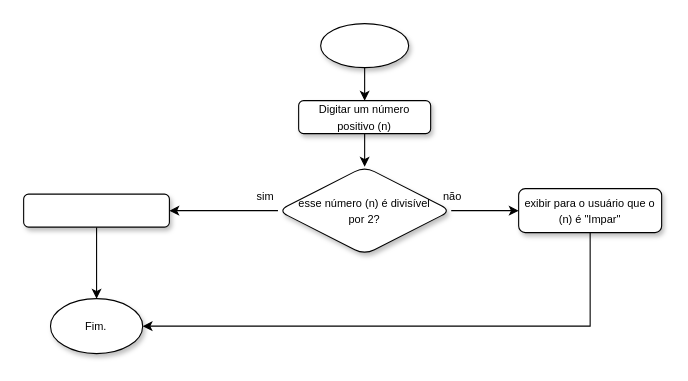
Some shapes in this 688 by 381 pixel diagram are drawn without their labels. Here are the shapes that lost their labels. From the top down, the centre of each, then its label:
(365,46): Inicio
(97,212): exibir para o usuário que o (n) é "Par"
